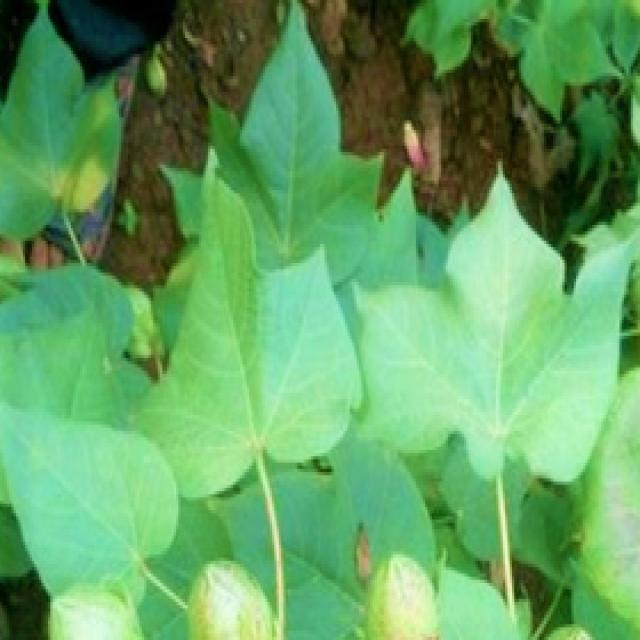Healthy Leaf: (2, 9, 639, 640)
